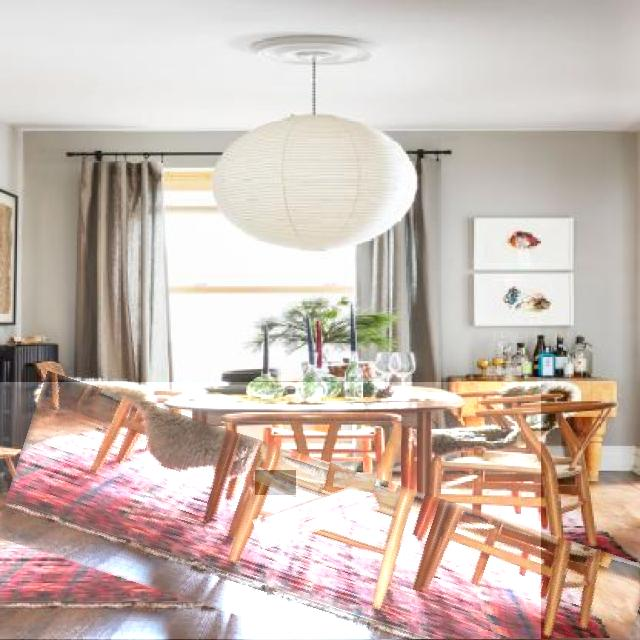floor: (0, 383, 541, 640), (252, 482, 382, 550), (552, 562, 640, 639), (256, 471, 296, 494), (335, 475, 375, 493)
